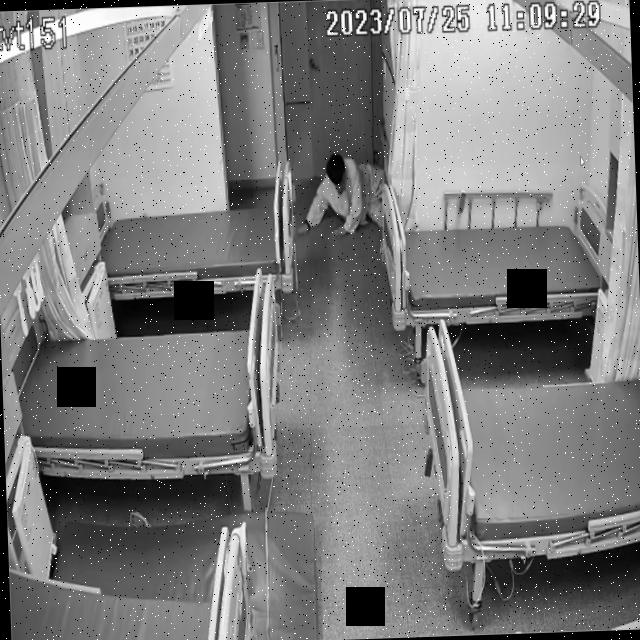bed: (420, 312, 640, 565), (14, 319, 282, 481), (378, 203, 616, 330), (101, 194, 293, 298)
fall: (292, 152, 391, 236)
patient: (290, 152, 388, 238)
